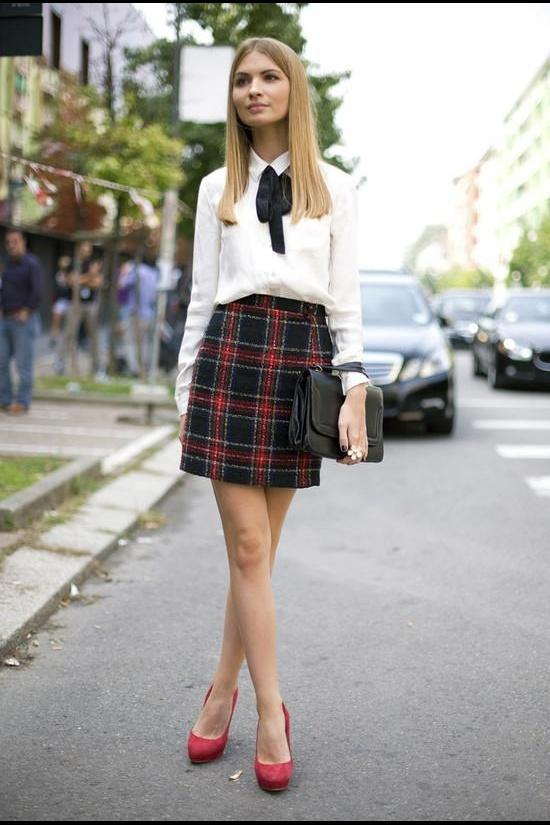shirt: (174, 145, 372, 417)
skirt: (181, 296, 336, 489)
